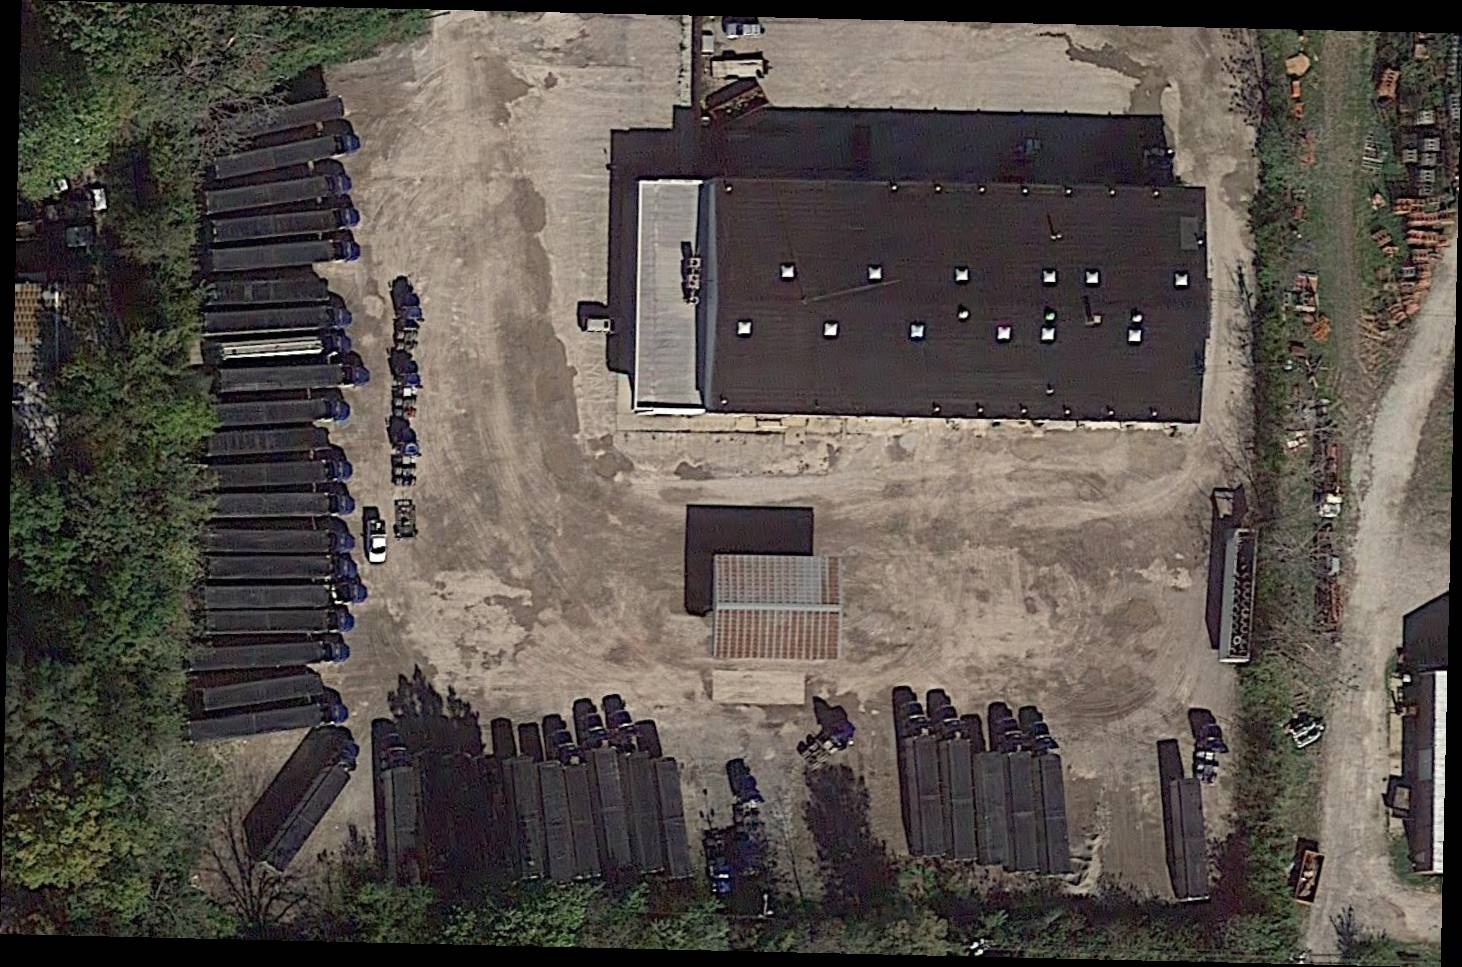large vehicle: (257, 738, 363, 873), (609, 709, 666, 873), (1023, 720, 1076, 880), (580, 714, 633, 873), (994, 716, 1043, 871), (552, 728, 603, 879), (894, 702, 943, 857), (201, 94, 345, 146), (214, 131, 360, 181), (186, 698, 349, 744), (931, 706, 978, 859), (375, 733, 421, 888), (172, 672, 322, 717), (183, 637, 350, 675), (501, 740, 545, 880), (650, 754, 697, 880), (534, 754, 579, 883), (206, 173, 350, 213), (210, 237, 359, 275), (197, 457, 352, 492), (211, 206, 356, 243), (220, 360, 369, 394), (187, 426, 328, 460), (206, 582, 366, 610), (210, 396, 350, 427), (217, 331, 349, 364), (203, 608, 352, 636), (203, 305, 350, 333), (209, 551, 351, 580), (210, 492, 355, 519), (205, 280, 327, 305), (207, 530, 351, 551)
